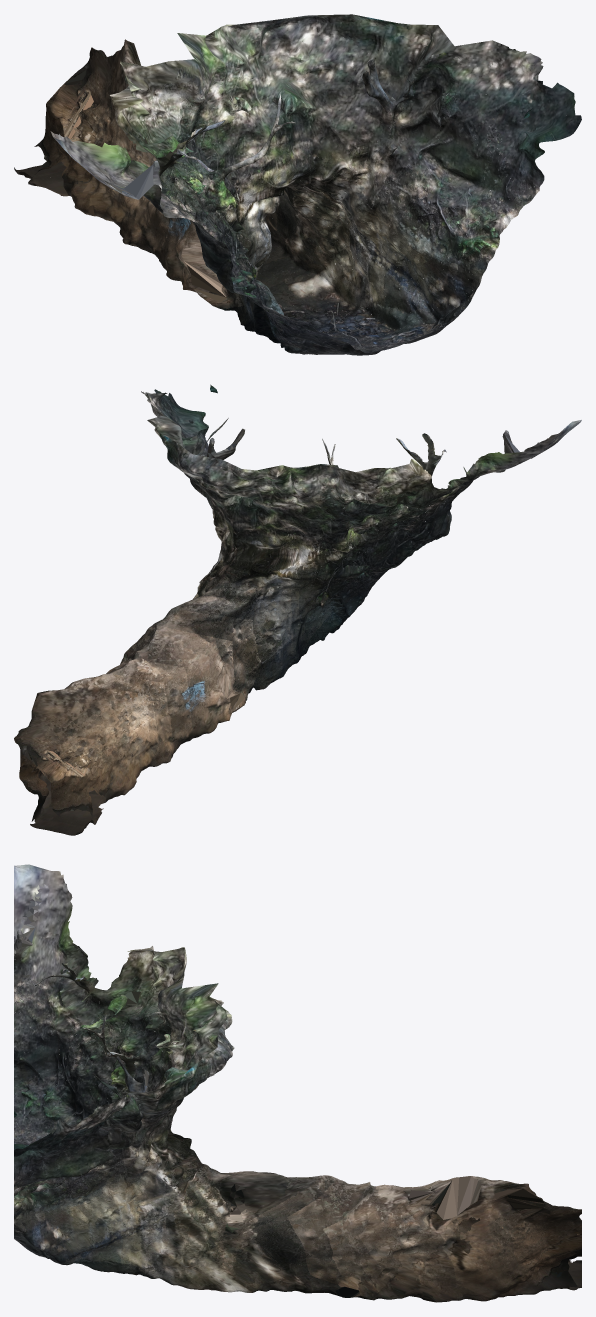
Rendered from cave-scan.glb.
3 views of the same model, one above another, from view 1: azimuth 30°, elevation 25°; view 2: azimuth 150°, elevation 25°; view 3: azimuth 270°, elevation 25° (orthographic). The views are drawn at different scales.
Parts seen in each view (by area): view 1: world; view 2: world; view 3: world.
Part boxes in pixels (x1,y1,x2,y2): world: (14,14,581,355); world: (14,384,581,835); world: (14,864,581,1302).
Bounding box in the file's own units: 21 × 13.37 × 24.01.
Materials: 4 (4 with a texture image).
